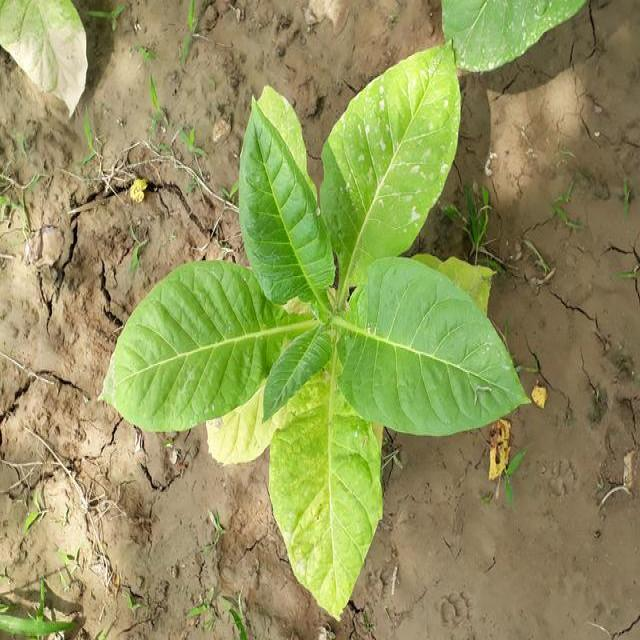crop: (120, 52, 536, 608), (438, 0, 584, 71), (2, 4, 86, 118)
